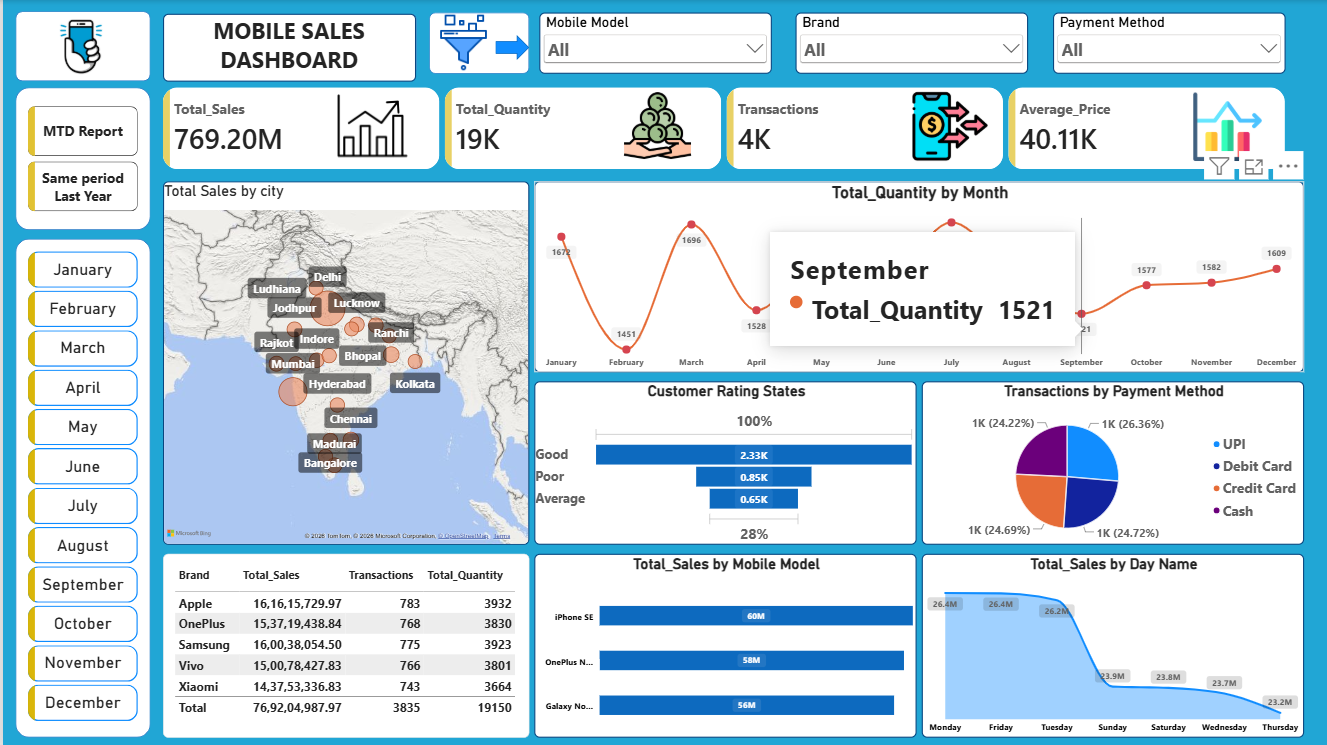

The page's visual inventory and layout, read from the dashboard file:
{"tool":"powerbi","page":{"name":"Dashboard","canvas":[1920,1080],"ordinal":0},"visuals":[{"type":"shape","box":[18.1,16.3,195.4,101.3],"z":0},{"type":"image","box":[54.3,16.3,117.6,101.3],"z":1000},{"type":"shape","box":[18.1,126.7,195.4,206.3],"z":2000},{"type":"shape","box":[18.1,345.6,195.4,722.1],"z":3000},{"type":"advancedSlicerVisual","fields":{"Values":["Custom_Calendra.Date.Variation.Date Hierarchy.Month"]},"box":[36.2,363.7,159.3,691.3],"z":4000},{"type":"cardVisual","fields":{"Data":["Sales_Data.Total_Sales_data","Sales_Data.Total_Quantity","Sales_Data.Transactions","Sales_Data.Average_Price"]},"box":[232,126,1624,118],"z":5000},{"type":"image","box":[433.2,118.4,204.5,128.5],"z":6000},{"type":"image","box":[871.2,131,153.8,103.2],"z":7000},{"type":"image","box":[1283.8,129.2,175.5,108.6],"z":8000},{"type":"image","box":[1685.5,134.6,175.5,99.5],"z":9000},{"type":"slicer","fields":{"Values":["Sales_Data.Mobile Model"]},"box":[776,17.7,336.6,88.7],"z":10000},{"type":"slicer","fields":{"Values":["Sales_Data.Brand"]},"box":[1147.3,17.7,336.6,88.7],"z":11000},{"type":"slicer","fields":{"Values":["Sales_Data.Payment Method"]},"box":[1519.8,17.7,336.6,88.7],"z":12000},{"type":"shape","box":[616.7,17.7,144.8,88.7],"z":13000},{"type":"image","box":[617.1,19.9,99.5,83.2],"z":14000},{"type":"shape","box":[713,50.7,48.9,36.2],"z":15000},{"type":"shape","box":[231.6,19.9,367.4,88.7],"z":16000},{"type":"textbox","box":[232,20,366,98],"z":17000},{"type":"map","title":"Total Sales by city","fields":{"Category":["Sales_Data.City"],"Size":["Sales_Data.Total_Sales_data"]},"box":[231.6,262.4,530.2,526.6],"z":18000},{"type":"lineChart","fields":{"Category":["Custom_Calendra.Date.Variation.Date Hierarchy.Month"],"Y":["Sales_Data.Total_Quantity"]},"box":[769.1,262.4,1114.8,276.9],"z":19000},{"type":"funnel","title":"Customer Rating States","fields":{"Category":["Sales_Data.Rating_States"],"Y":["CountNonNull(Sales_Data.Customer Age)"]},"box":[769.1,551.9,553.8,237.1],"z":20000},{"type":"pieChart","fields":{"Category":["Sales_Data.Payment Method"],"Y":["Sales_Data.Transactions"]},"box":[1330.1,551.9,553.8,237.1],"z":21000},{"type":"barChart","fields":{"Category":["Sales_Data.Mobile Model"],"Y":["Sales_Data.Total_Sales_data"]},"box":[769.1,801.7,553.8,266],"z":22000},{"type":"areaChart","fields":{"Category":["Custom_Calendra.Day Name"],"Y":["Sales_Data.Total_Sales_data"]},"box":[1330.1,801.7,553.8,266],"z":23000},{"type":"tableEx","fields":{"Values":["Sales_Data.Brand","Sales_Data.Total_Sales_data","Sales_Data.Transactions","Sales_Data.Total_Quantity"]},"box":[231.6,801.7,530,266],"z":24000},{"type":"pageNavigator","box":[36.2,153.8,159.3,153.8],"z":25000}]}

Visuals, with their boxes in screenshot pixels (x1, y1, x2, y2), scaled from the page's 1920x1080 canvas onto the 1327x745 screenshot:
shape: 13, 11, 148, 81
image: 38, 11, 119, 81
shape: 13, 87, 148, 230
shape: 13, 238, 148, 737
advancedSlicerVisual - Custom_Calendra.Date.Variation.Date Hierarchy.Month: 25, 251, 135, 728
cardVisual - Sales_Data.Total_Sales_data x Sales_Data.Total_Quantity: 160, 87, 1283, 168
image: 299, 82, 441, 170
image: 602, 90, 708, 162
image: 887, 89, 1009, 164
image: 1165, 93, 1286, 161
slicer - Sales_Data.Mobile Model: 536, 12, 769, 73
slicer - Sales_Data.Brand: 793, 12, 1026, 73
slicer - Sales_Data.Payment Method: 1050, 12, 1283, 73
shape: 426, 12, 526, 73
image: 427, 14, 495, 71
shape: 493, 35, 527, 60
shape: 160, 14, 414, 75
textbox: 160, 14, 413, 81
"Total Sales by city" map: 160, 181, 527, 544
lineChart - Custom_Calendra.Date.Variation.Date Hierarchy.Month x Sales_Data.Total_Quantity: 532, 181, 1302, 372
"Customer Rating States" funnel: 532, 381, 914, 544
pieChart - Sales_Data.Payment Method x Sales_Data.Transactions: 919, 381, 1302, 544
barChart - Sales_Data.Mobile Model x Sales_Data.Total_Sales_data: 532, 553, 914, 737
areaChart - Custom_Calendra.Day Name x Sales_Data.Total_Sales_data: 919, 553, 1302, 737
tableEx - Sales_Data.Brand x Sales_Data.Total_Sales_data: 160, 553, 526, 737
pageNavigator: 25, 106, 135, 212
